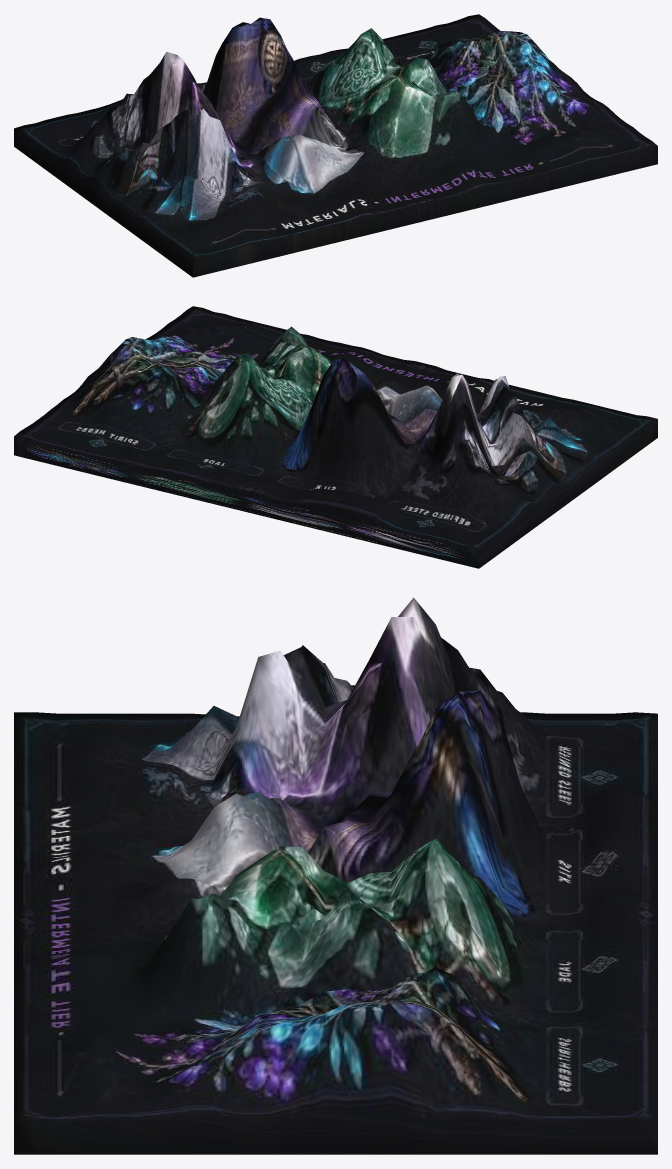
The model's file is MATERIAL_Intermediate_Tier.glb.
3 renders of one model, top to bottom at view 1: azimuth 30°, elevation 25°; view 2: azimuth 150°, elevation 25°; view 3: azimuth 270°, elevation 25°, orthographic. The views are drawn at different scales.
Visible parts, largest first — view 1: MATERIAL_Intermediate_Tier; view 2: MATERIAL_Intermediate_Tier; view 3: MATERIAL_Intermediate_Tier.
Boxes of the visible parts, <box> form: MATERIAL_Intermediate_Tier: <box>14,14,657,277</box>; MATERIAL_Intermediate_Tier: <box>14,306,657,568</box>; MATERIAL_Intermediate_Tier: <box>14,597,657,1154</box>.
Size of the model in its own units: 2 by 0.51 by 1.33.
1 material, 1 textured.
